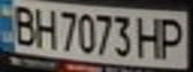0: (75, 10, 96, 55)
3: (112, 12, 136, 59)
7: (54, 8, 78, 52), (93, 11, 115, 56)
B: (6, 1, 39, 47)
H: (133, 12, 166, 60), (30, 4, 60, 50)
P: (157, 15, 190, 61)
